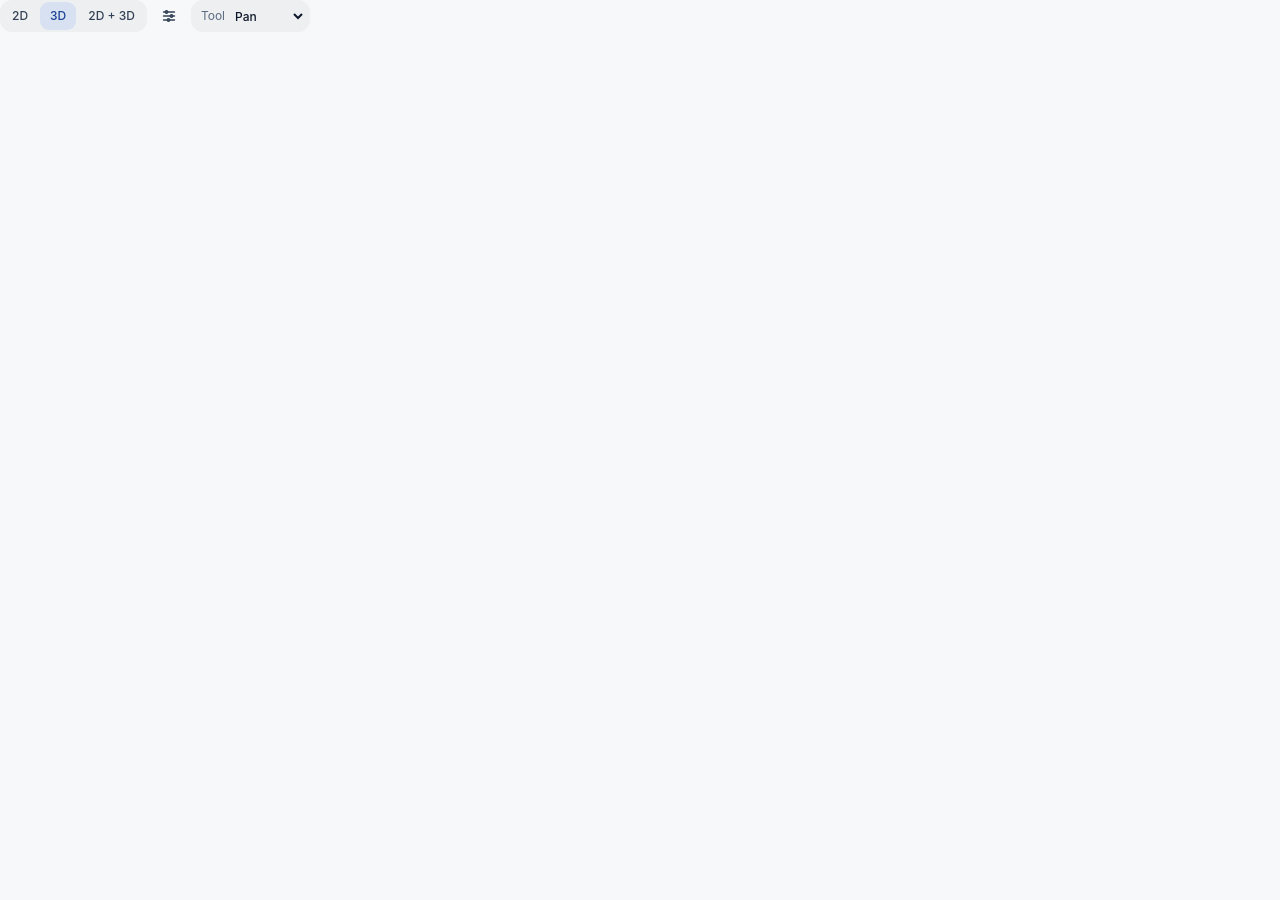
Test: view control semantics › hides 2D Plane and layout in 3D-only mode
The width and height of the screenshot is (1280, 900).
Click the button named "View options".
click(169, 16)  # box [153, 0, 185, 32]
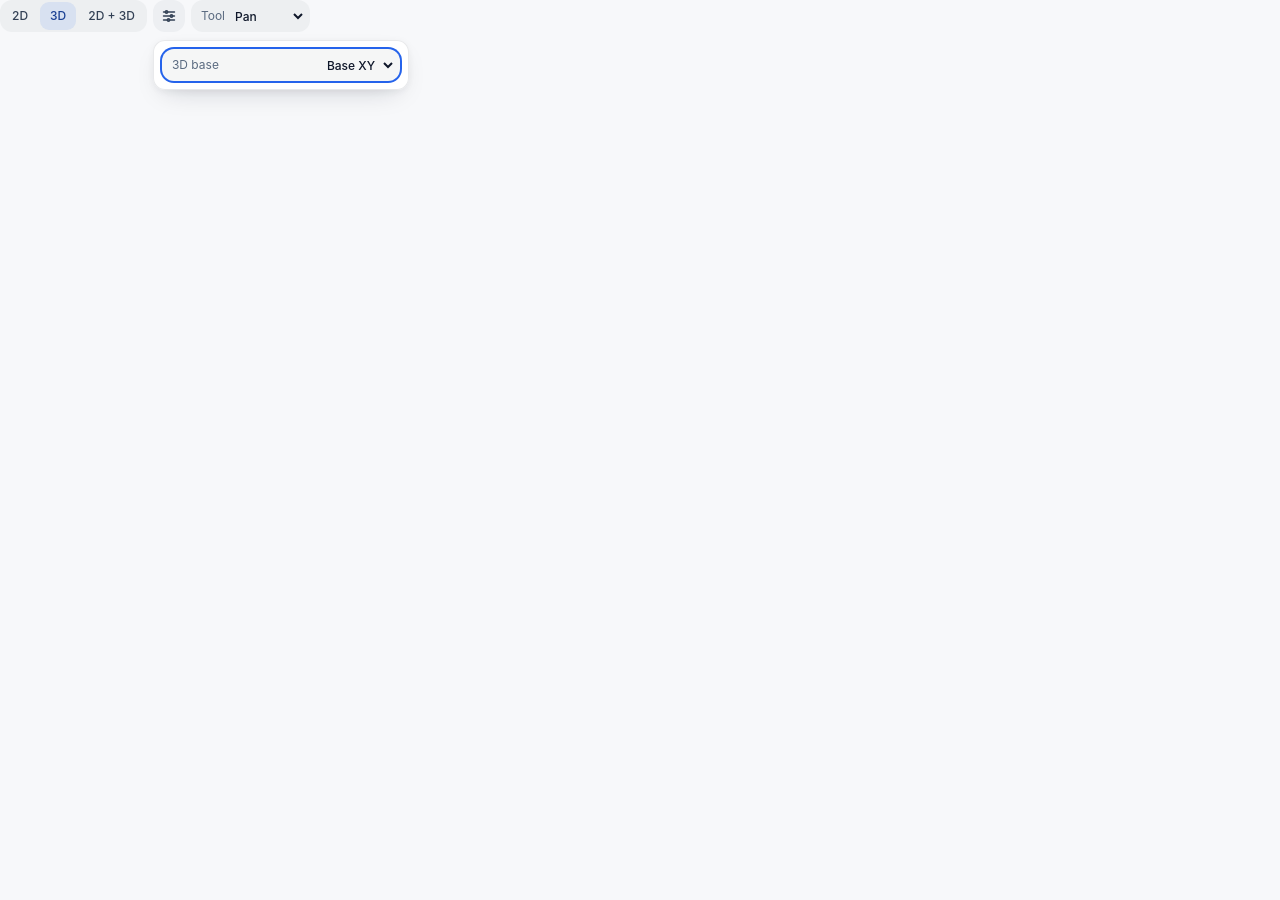
Now the dropdown with test id "toolbar-3d-base-select" is shown, box [321, 51, 396, 79]
